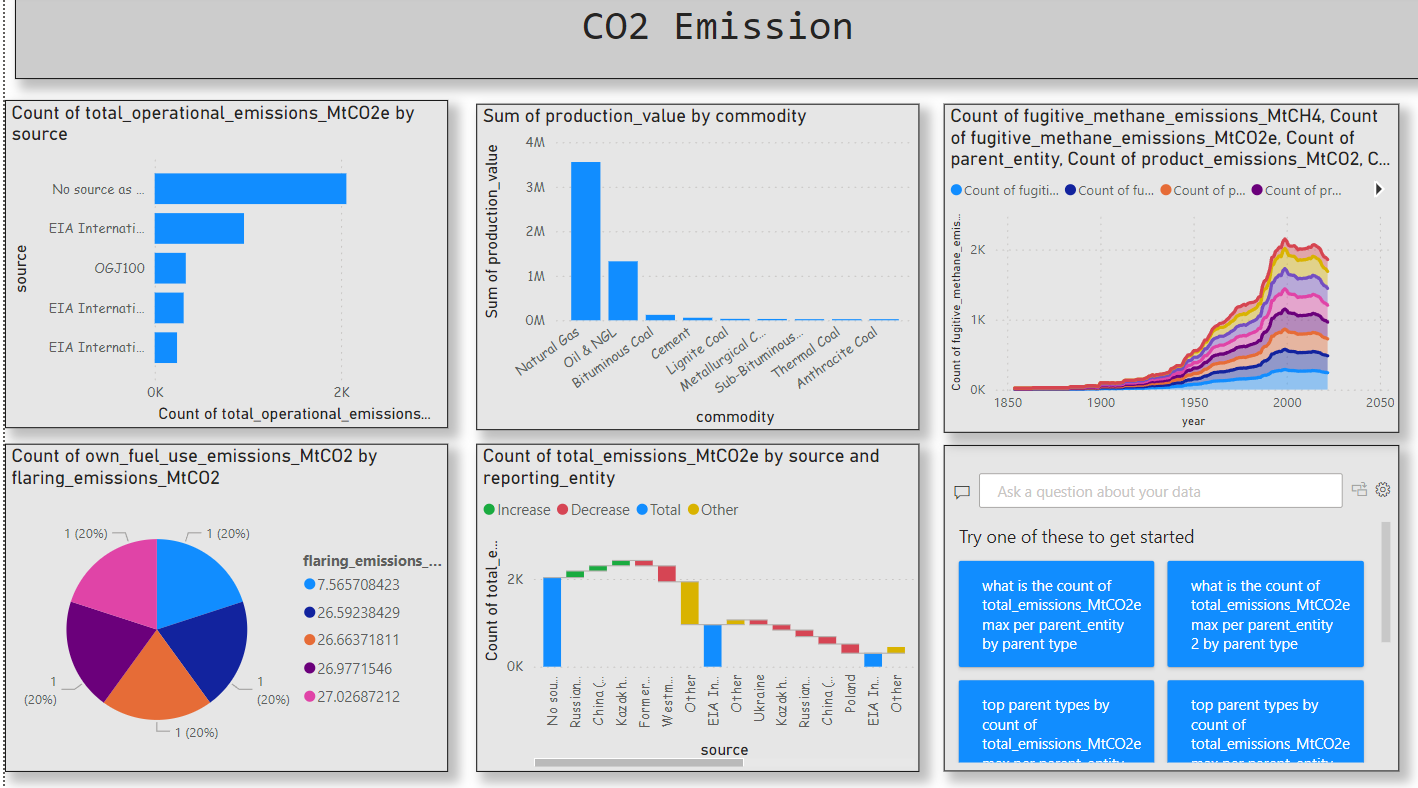

This screenshot's page, from the dashboard's own definition file:
{"tool":"powerbi","page":{"name":"Page 2","canvas":[1280,720],"ordinal":1},"visuals":[{"type":"textbox","box":[9.6,0,1270.4,75.6],"z":0},{"type":"barChart","fields":{"Category":["emissions_high_granularity.source"],"Y":["CountNonNull(emissions_high_granularity.total_operational_emissions_MtCO2e)"]},"box":[0,95.5,400.5,296.5],"z":1},{"type":"columnChart","fields":{"Category":["emissions_high_granularity.commodity"],"Y":["Sum(emissions_high_granularity.production_value)"]},"box":[426.2,98.4,400.5,295.1],"z":2},{"type":"pieChart","fields":{"Category":["emissions_high_granularity.flaring_emissions_MtCO2"],"Y":["Count(emissions_high_granularity.own_fuel_use_emissions_MtCO2)"]},"box":[0,406.2,400.5,296.5],"z":3},{"type":"qnaVisual","box":[848.9,407.1,411.9,295.4],"z":4},{"type":"waterfallChart","fields":{"Category":["emissions_high_granularity.source"],"Breakdown":["emissions_high_granularity.reporting_entity"],"Y":["Count(emissions_high_granularity.total_emissions_MtCO2e)"]},"box":[426.3,405.9,401.1,296.6],"z":5},{"type":"stackedAreaChart","fields":{"Category":["emissions_high_granularity.year"],"Y":["CountNonNull(emissions_high_granularity.fugitive_methane_emissions_MtCH4)","CountNonNull(emissions_high_granularity.fugitive_methane_emissions_MtCO2e)","CountNonNull(emissions_high_granularity.parent_entity)","CountNonNull(emissions_high_granularity.product_emissions_MtCO2)","CountNonNull(emissions_high_granularity.production_unit)","CountNonNull(emissions_high_granularity.total_emissions_MtCO2e)","CountNonNull(emissions_high_granularity.total_operational_emissions_MtCO2e)","Sum(emissions_high_granularity.flaring_emissions_MtCO2)"]},"box":[848.9,98.5,411.9,297.8],"z":6}]}

Visuals, with their boxes in screenshot pixels (x1, y1, x2, y2), scaled from the page's 1280x720 canvas onto the 1418x788 screenshot:
textbox: bbox=(11, 0, 1417, 83)
barChart - emissions_high_granularity.source x CountNonNull(emissions_high_granularity.total_operational_emissions_MtCO2e): bbox=(0, 105, 444, 429)
columnChart - emissions_high_granularity.commodity x Sum(emissions_high_granularity.production_value): bbox=(472, 108, 916, 431)
pieChart - emissions_high_granularity.flaring_emissions_MtCO2 x Count(emissions_high_granularity.own_fuel_use_emissions_MtCO2): bbox=(0, 445, 444, 769)
qnaVisual: bbox=(940, 446, 1397, 769)
waterfallChart - emissions_high_granularity.source x emissions_high_granularity.reporting_entity: bbox=(472, 444, 917, 769)
stackedAreaChart - emissions_high_granularity.year x CountNonNull(emissions_high_granularity.fugitive_methane_emissions_MtCH4): bbox=(940, 108, 1397, 434)
